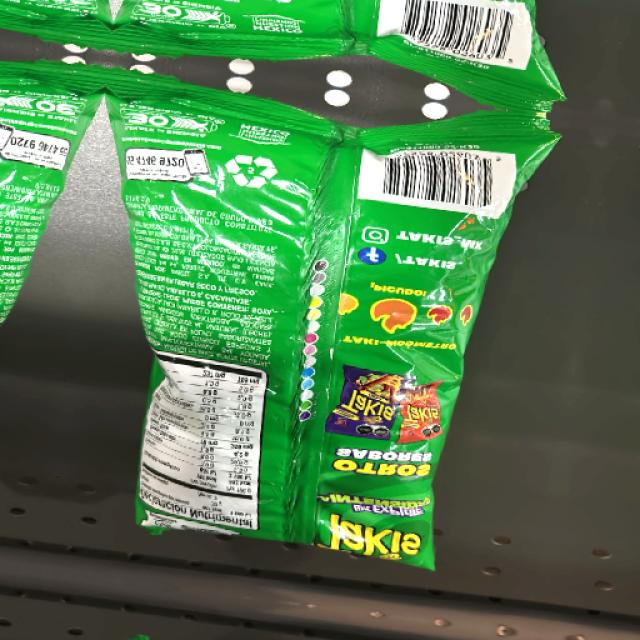productoAtras: (134, 100, 453, 564)
